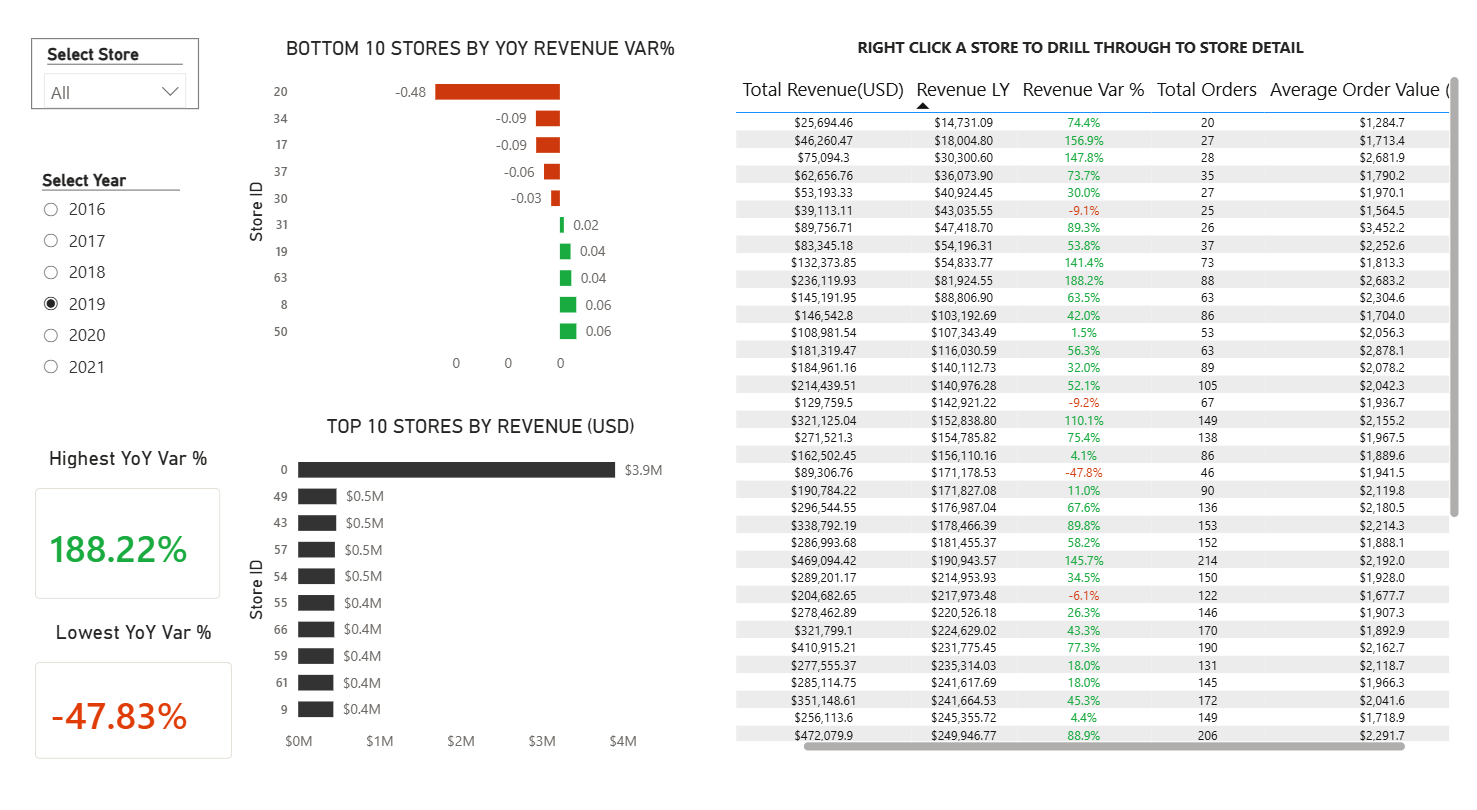

This screenshot's page, from the dashboard's own definition file:
{"tool":"powerbi","page":{"name":"Site Performance","canvas":[1280,720],"ordinal":1},"visuals":[{"type":"slicer","fields":{"Values":["Stores.StoreKey"]},"box":[34.5,38,143.8,60.6],"z":0},{"type":"slicer","fields":{"Values":["DimDate.Year"]},"box":[30.9,146.2,143.8,213.9],"z":1000},{"type":"barChart","title":"TOP 10 STORES BY REVENUE (USD)","fields":{"Category":["Stores.StoreKey"],"Y":["_Measures.Total Revenue(USD)"]},"box":[213.9,360.1,410,298.3],"z":2000},{"type":"barChart","title":"BOTTOM 10 STORES BY YOY REVENUE VAR%","fields":{"Category":["Stores.StoreKey"],"Y":["_Measures.Revenue Var %"]},"box":[213.9,35.7,410,298.3],"z":3000},{"type":"tableEx","fields":{"Values":["Stores.StoreKey","_Measures.Total Revenue(USD)","_Measures.Revenue LY","_Measures.Revenue Var %","_Measures.Total Orders","_Measures.Average Order Value (AOV)"]},"box":[632.3,65.4,631.1,589.5],"z":4000},{"type":"textbox","box":[624,32.1,622.8,36.8],"z":5000},{"type":"cardVisual","title":"Highest YoY Var %","fields":{"Data":["_Measures.Best YoY Var %"]},"box":[20.2,387.4,193.7,148.6],"z":6000},{"type":"cardVisual","title":"Lowest YoY Var %","fields":{"Data":["_Measures.Worst YoY Var %"]},"box":[20.2,536,203.2,136.7],"z":7000}]}

Visuals, with their boxes in screenshot pixels (x1, y1, x2, y2), scaled from the page's 1280x720 canvas onto the 1477x810 screenshot:
slicer - Stores.StoreKey: crop(40, 43, 206, 111)
slicer - DimDate.Year: crop(36, 164, 202, 405)
"TOP 10 STORES BY REVENUE (USD)" barChart: crop(247, 405, 720, 741)
"BOTTOM 10 STORES BY YOY REVENUE VAR%" barChart: crop(247, 40, 720, 376)
tableEx - Stores.StoreKey x _Measures.Total Revenue(USD): crop(730, 74, 1458, 737)
textbox: crop(720, 36, 1439, 78)
"Highest YoY Var %" cardVisual: crop(23, 436, 247, 603)
"Lowest YoY Var %" cardVisual: crop(23, 603, 258, 757)
